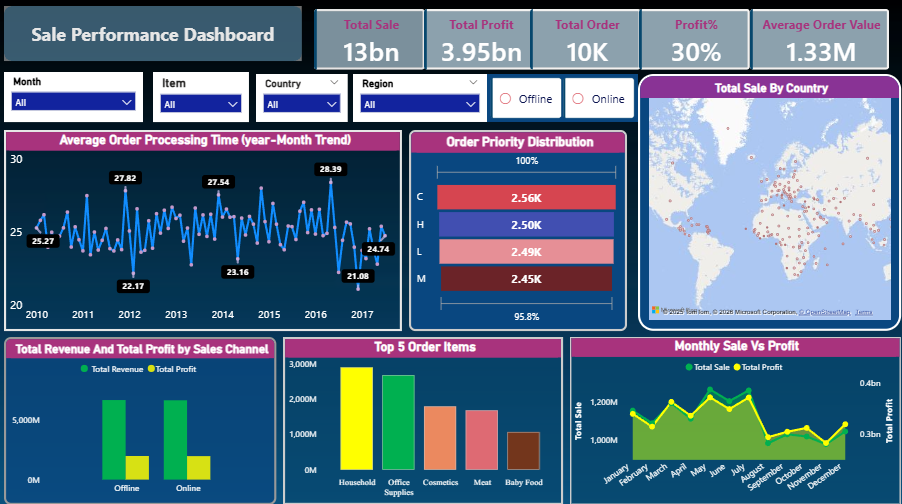

This screenshot's page, from the dashboard's own definition file:
{"tool":"powerbi","page":{"name":"Page 1","canvas":[1280,720],"ordinal":0},"visuals":[{"type":"shape","box":[8.5,12.8,422.4,78],"z":0},{"type":"clusteredColumnChart","title":" Total Revenue And Total Profit by Sales Channel","fields":{"Category":["archivetemp10000 Sales Records.Sales Channel"],"Y":["Sum(archivetemp10000 Sales Records.Total Revenue)","Sum(archivetemp10000 Sales Records.Total Profit)"]},"box":[8.5,481.9,385.5,238.1],"z":1000},{"type":"cardVisual","fields":{"Data":["archivetemp10000 Sales Records.Total Sale"]},"box":[430.9,0,191.3,120.5],"z":2000},{"type":"cardVisual","fields":{"Data":["archivetemp10000 Sales Records.Total Profit"]},"box":[586.8,0,191.3,120.5],"z":3000},{"type":"cardVisual","fields":{"Data":["archivetemp10000 Sales Records.Total Order"]},"box":[737,0,191.3,120.5],"z":4000},{"type":"cardVisual","fields":{"Data":["archivetemp10000 Sales Records.Average Order Value"]},"box":[1048.8,0,231,120.5],"z":5000},{"type":"cardVisual","fields":{"Data":["archivetemp10000 Sales Records.Profit%"]},"box":[891.5,0,191.3,120.5],"z":6000},{"type":"lineChart","title":"Monthly Sale Vs Profit","fields":{"Category":["archivetemp10000 Sales Records.Order Date.Variation.Date Hierarchy.Month"],"Y":["archivetemp10000 Sales Records.Total Sale"],"Y2":["archivetemp10000 Sales Records.Total Profit"]},"box":[810.7,481.9,469.1,238.1],"z":7000},{"type":"clusteredColumnChart","title":"Top 5 Order Items","fields":{"Y":["archivetemp10000 Sales Records.Total Sale"],"Category":["archivetemp10000 Sales Records.Item Type"]},"box":[403.9,481.9,396.9,238.1],"z":8000},{"type":"lineChart","title":"Average Order Processing Time (year-Month Trend)","fields":{"Category":["archivetemp10000 Sales Records.Order Date.Variation.Date Hierarchy.Year","archivetemp10000 Sales Records.Order Date.Variation.Date Hierarchy.Month"],"Y":["Avg(archivetemp10000 Sales Records.Custom)"]},"box":[8.5,188.5,564.1,284.9],"z":9000},{"type":"map","title":"Total Sale By Country","fields":{"Category":["archivetemp10000 Sales Records.Country"],"Size":["archivetemp10000 Sales Records.Total Sale"]},"box":[907.1,109.1,372.8,364.3],"z":10000},{"type":"funnel","title":"Order Priority Distribution","fields":{"Category":["archivetemp10000 Sales Records.Order Priority"],"Y":["CountNonNull(archivetemp10000 Sales Records.Order Priority)"]},"box":[582.5,188.5,309,284.9],"z":11000},{"type":"slicer","fields":{"Values":["archivetemp10000 Sales Records.Item Type"]},"box":[219.7,106.3,136.1,70.9],"z":12000},{"type":"slicer","fields":{"Values":["archivetemp10000 Sales Records.Country"]},"box":[365.7,109.1,130.4,68],"z":13000},{"type":"slicer","fields":{"Values":["archivetemp10000 Sales Records.Order Date.Variation.Date Hierarchy.Month"]},"box":[8.5,106.3,197,70.9],"z":14000},{"type":"slicer","fields":{"Values":["archivetemp10000 Sales Records.Region"]},"box":[503.1,109.1,189.9,68],"z":15000},{"type":"advancedSlicerVisual","fields":{"Values":["archivetemp10000 Sales Records.Sales Channel"]},"box":[693.1,109.1,214,68],"z":16000}]}

Visuals, with their boxes in screenshot pixels (x1, y1, x2, y2), scaled from the page's 1280x720 canvas onto the 902x504 screenshot:
shape: bbox(6, 9, 304, 64)
" Total Revenue And Total Profit by Sales Channel" clusteredColumnChart: bbox(6, 337, 278, 503)
cardVisual - archivetemp10000 Sales Records.Total Sale: bbox(304, 0, 438, 84)
cardVisual - archivetemp10000 Sales Records.Total Profit: bbox(414, 0, 548, 84)
cardVisual - archivetemp10000 Sales Records.Total Order: bbox(519, 0, 654, 84)
cardVisual - archivetemp10000 Sales Records.Average Order Value: bbox(739, 0, 901, 84)
cardVisual - archivetemp10000 Sales Records.Profit%: bbox(628, 0, 763, 84)
"Monthly Sale Vs Profit" lineChart: bbox(571, 337, 901, 503)
"Top 5 Order Items" clusteredColumnChart: bbox(285, 337, 564, 503)
"Average Order Processing Time (year-Month Trend)" lineChart: bbox(6, 132, 404, 331)
"Total Sale By Country" map: bbox(639, 76, 901, 331)
"Order Priority Distribution" funnel: bbox(410, 132, 628, 331)
slicer - archivetemp10000 Sales Records.Item Type: bbox(155, 74, 251, 124)
slicer - archivetemp10000 Sales Records.Country: bbox(258, 76, 350, 124)
slicer - archivetemp10000 Sales Records.Order Date.Variation.Date Hierarchy.Month: bbox(6, 74, 145, 124)
slicer - archivetemp10000 Sales Records.Region: bbox(355, 76, 488, 124)
advancedSlicerVisual - archivetemp10000 Sales Records.Sales Channel: bbox(488, 76, 639, 124)
